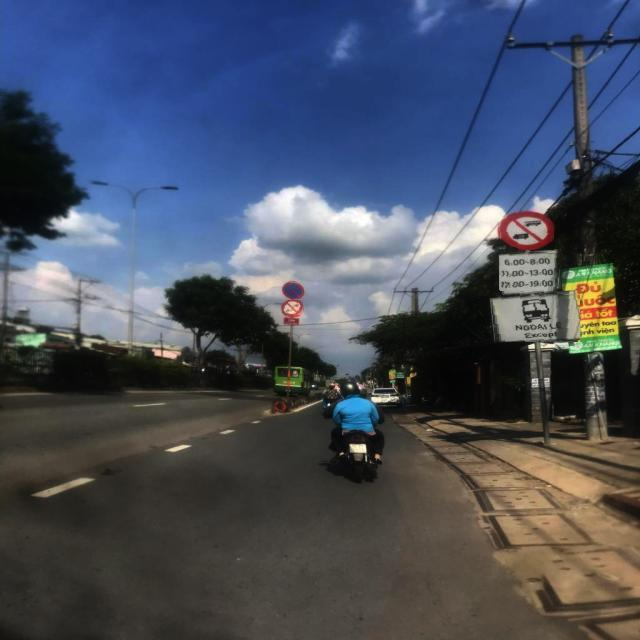107-cam-oto-khach-va-oto-tai: (498, 210, 554, 250)
